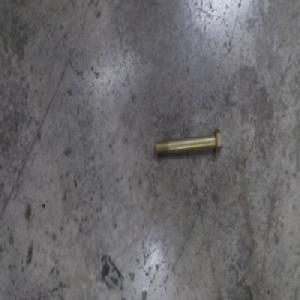Bolt: (153, 127, 222, 157)
